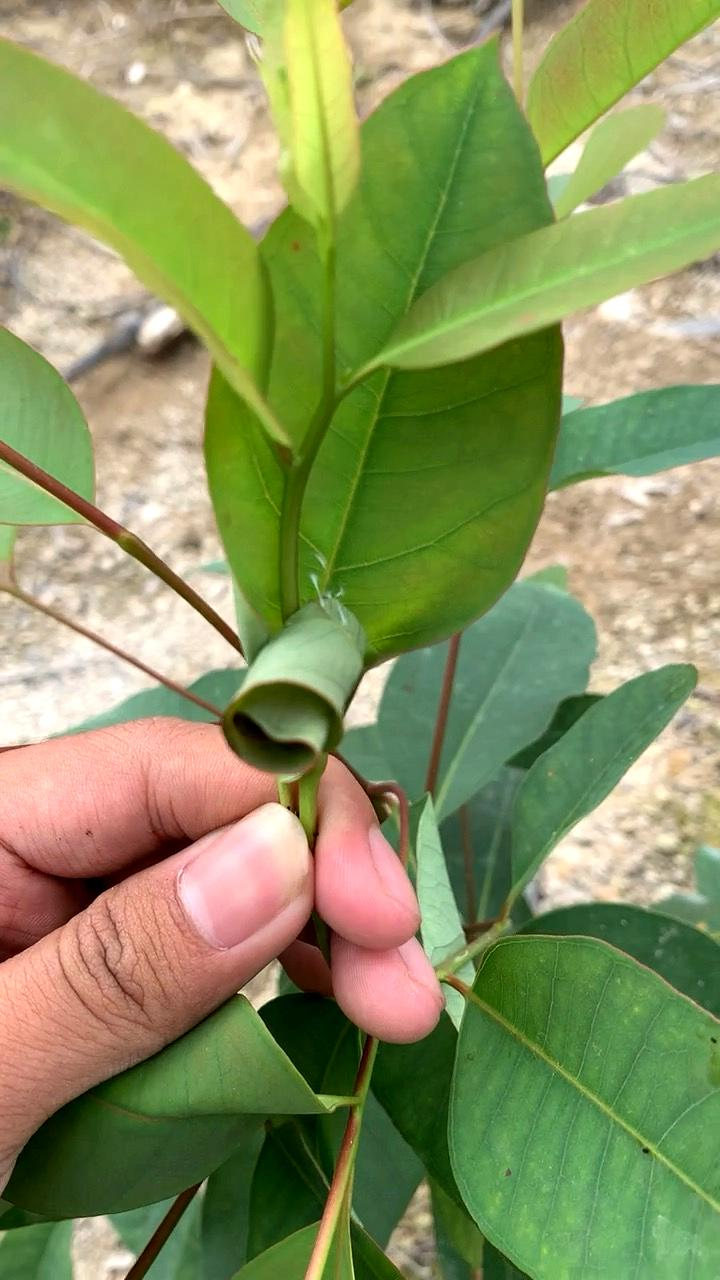Leaf Roller - Leaf: (165, 545, 478, 796)
